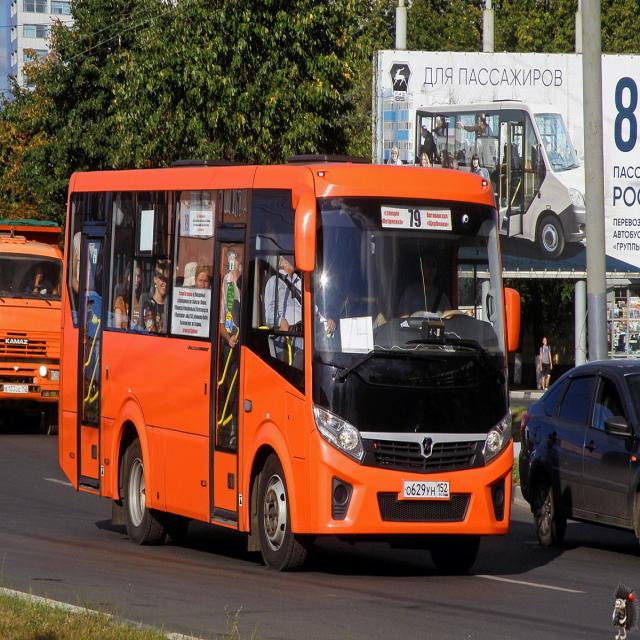number-of-bus: (408, 210, 424, 228)
